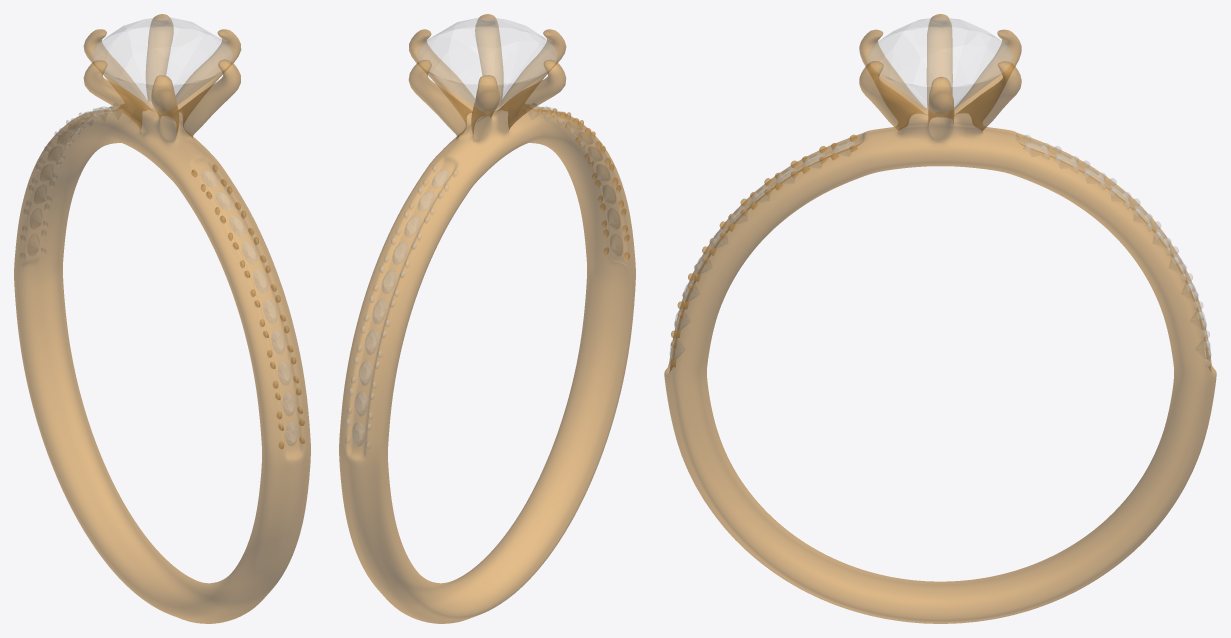
The picture shows the model from 3 angles, left to right: view 1: azimuth 30°, elevation 25°; view 2: azimuth 150°, elevation 25°; view 3: azimuth 270°, elevation 25°; orthographic projection. The views are drawn at different scales.
Visible parts, largest first — view 1: VR001s-BD; view 2: VR001s-BD; view 3: VR001s-BD.
Part boxes in pixels (box(x1,y1,x2,y2)): VR001s-BD: box(14, 14, 310, 623); VR001s-BD: box(339, 14, 635, 623); VR001s-BD: box(664, 14, 1216, 623).
Size of the model in its own units: 0.7773 by 2.75 by 2.34.
